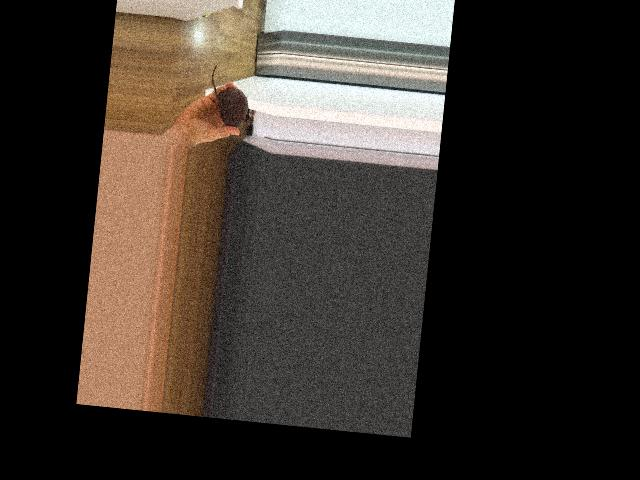beet: (207, 63, 253, 127)
